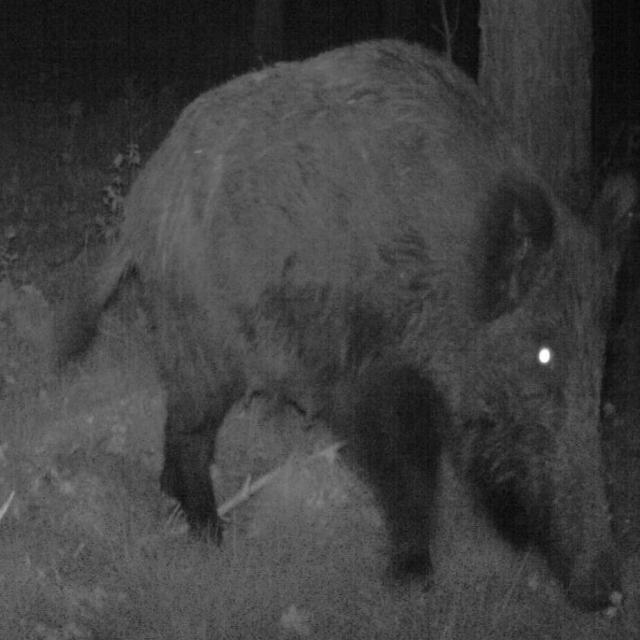pig: (75, 36, 640, 619)
